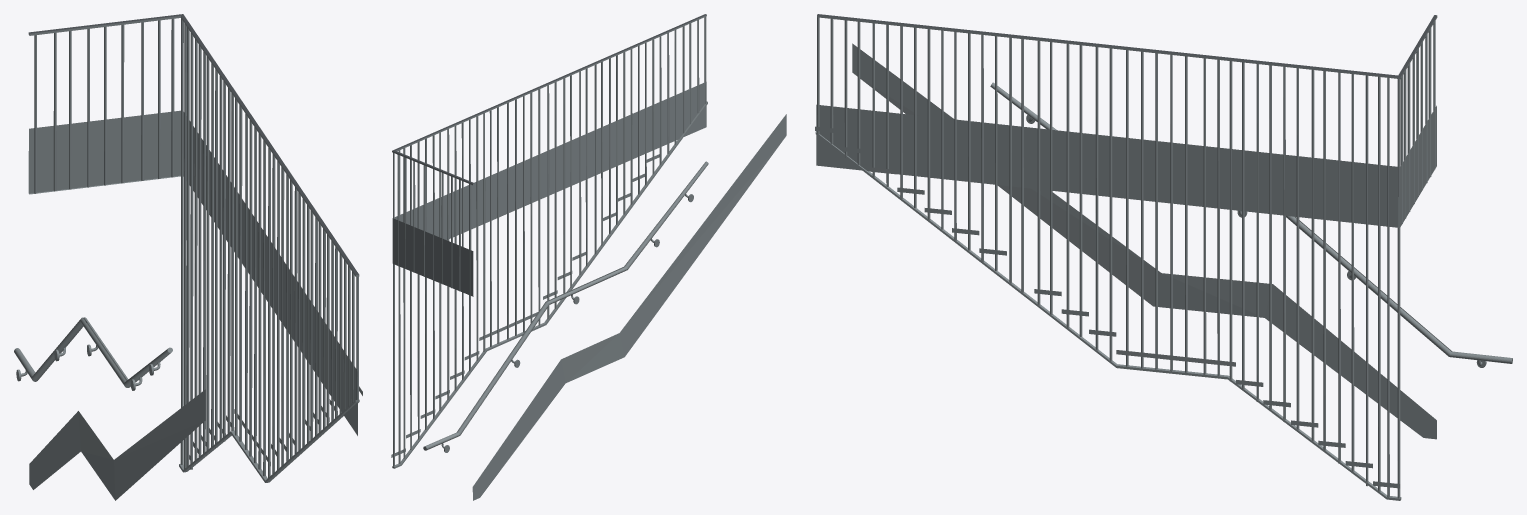
The model's file is escaleras_pasillo_3_2.glb.
3 views of the same model, side by side, from view 1: azimuth 30°, elevation 25°; view 2: azimuth 150°, elevation 25°; view 3: azimuth 270°, elevation 25° (orthographic). The views are drawn at different scales.
Parts seen in each view (by area): view 1: escalon.004; view 2: escalon.004; view 3: escalon.004.
Part boxes in pixels (x1,y1,x2,y2): escalon.004: (14,14,362,500); escalon.004: (391,14,786,500); escalon.004: (815,14,1512,500).
Bounding box in the file's own units: 15.43 × 24.62 × 36.72.
Materials: 2 (1 with a texture image).
